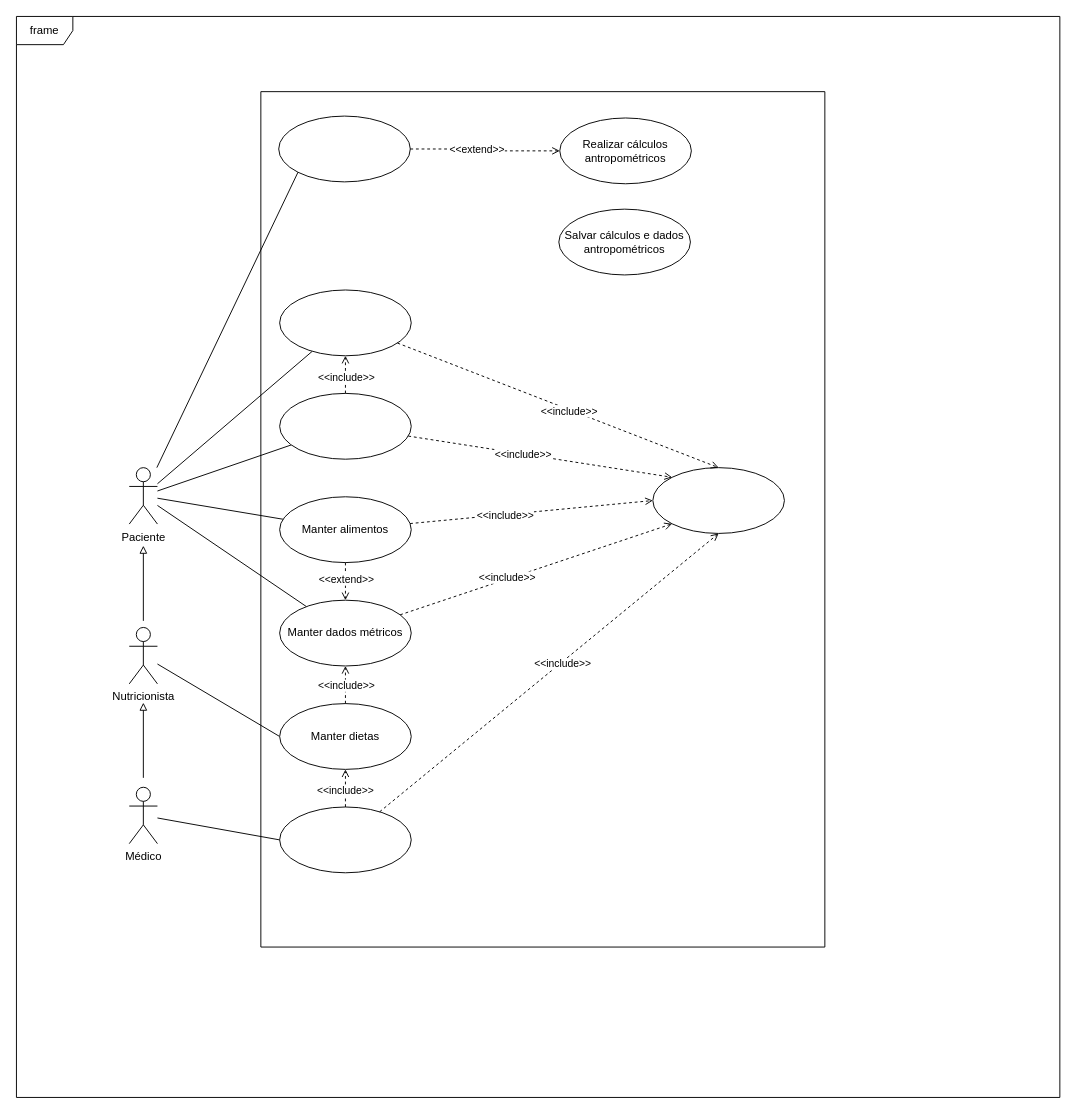
This 1076x1114 diagram has some shape labels left out. The centre of each missing label's shape, as x and y in pixels:
"Inserir dados antropométricos" belongs at pixel 344 148.
"Manter cadastro" belongs at pixel 345 322.
"Manter consulta" belongs at pixel 345 425.
"Manter receitas" belongs at pixel 345 839.
"Realizar login" belongs at pixel 718 500.
